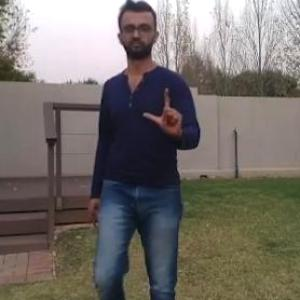land_hand: (140, 86, 188, 142)
